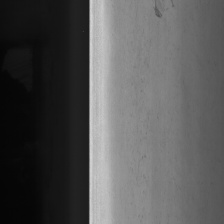water_spot: (127, 43, 179, 210), (150, 1, 179, 28)
